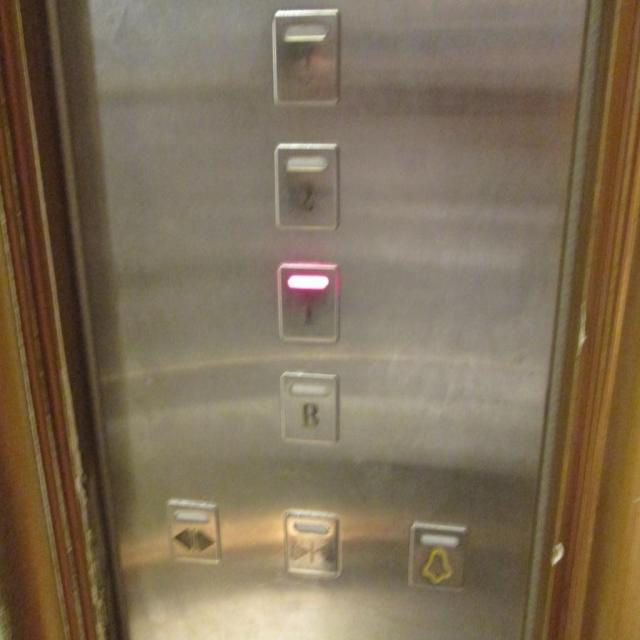1: (274, 258, 344, 348)
2: (270, 137, 342, 233)
B: (279, 366, 342, 446)
alarm: (405, 517, 468, 595)
blur: (270, 5, 342, 110)
close: (282, 508, 342, 584)
open: (164, 496, 224, 570)
